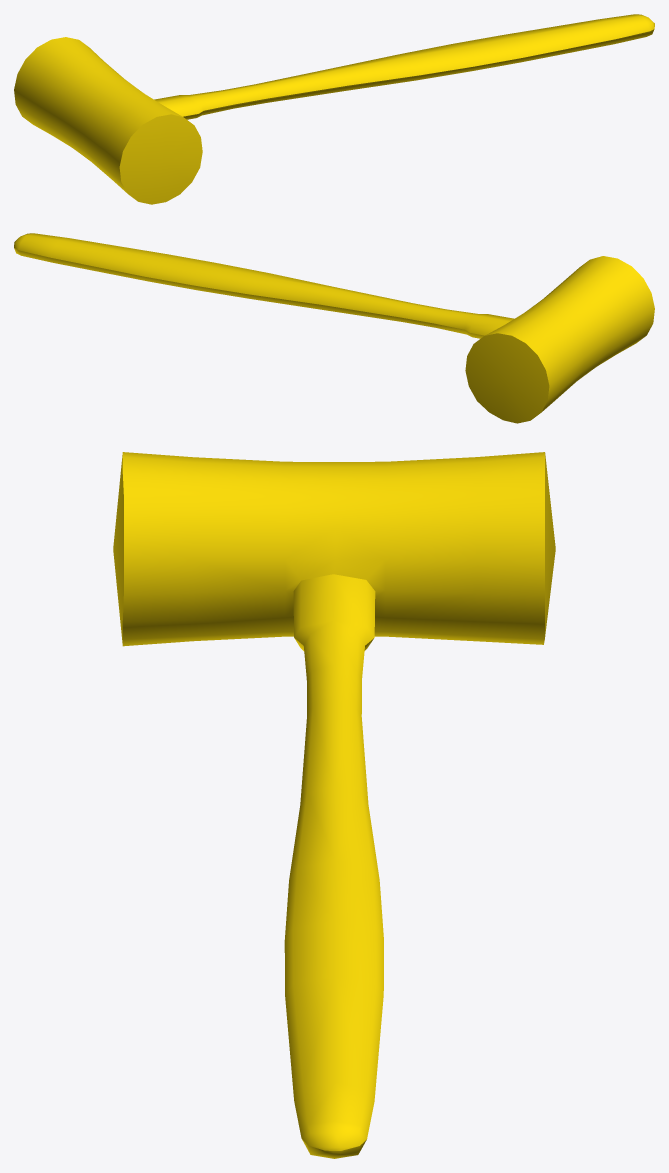
File: SM_Bone_Mallet_3.FBX
3 renders of one model, top to bottom at view 1: azimuth 30°, elevation 25°; view 2: azimuth 150°, elevation 25°; view 3: azimuth 270°, elevation 25°, orthographic. The views are drawn at different scales.
Visible parts, largest first — view 1: Bone_Mallet_3; view 2: Bone_Mallet_3; view 3: Bone_Mallet_3.
Boxes of the visible parts, x1,y1,x2,y2 form: Bone_Mallet_3: (14, 14, 654, 204); Bone_Mallet_3: (14, 233, 654, 423); Bone_Mallet_3: (113, 452, 555, 1158).
Bounding box in the file's own units: 22.87 × 3.26 × 7.48.
